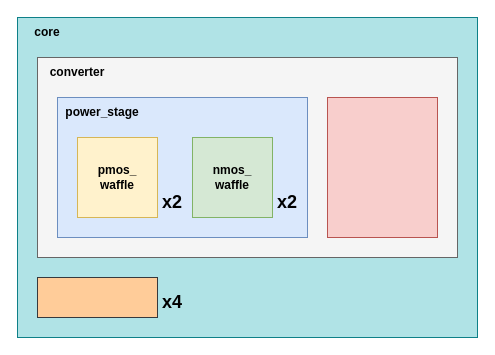
This 495x355 diagram has some shape labels left out. The centre of each missing label's shape, as x and y in pixels:
"flying_ capacitor" belongs at (x=382, y=167).
"level_shifter" belongs at (x=97, y=297).
